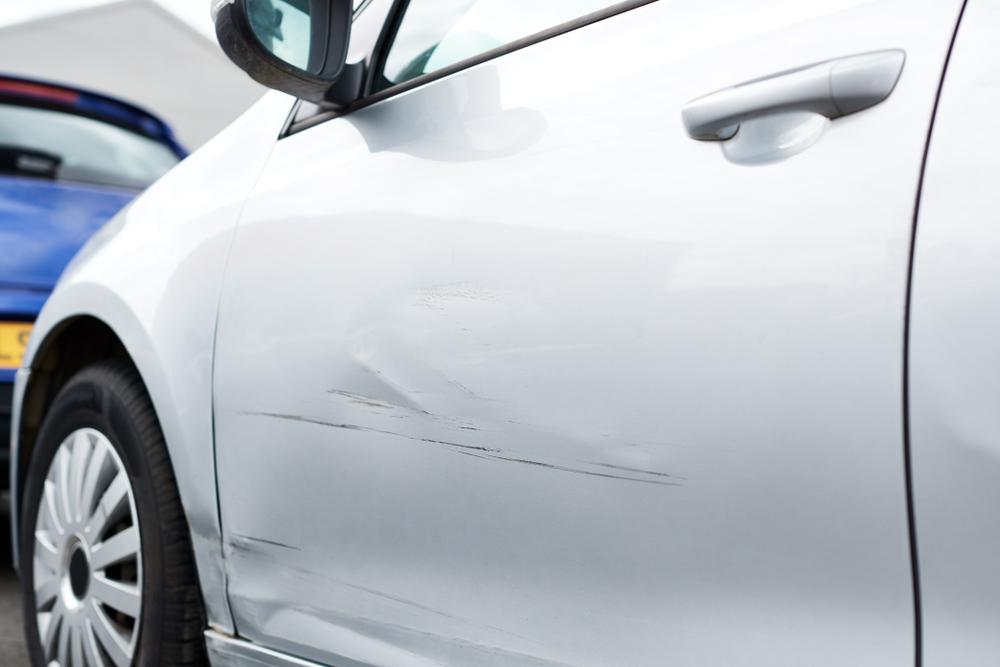scratch: (248, 359, 708, 499), (222, 529, 458, 625)
